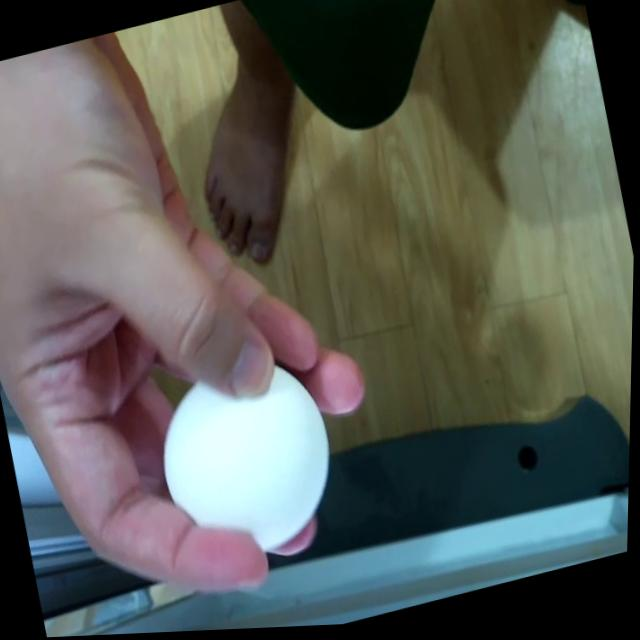egg: (148, 345, 357, 572)
